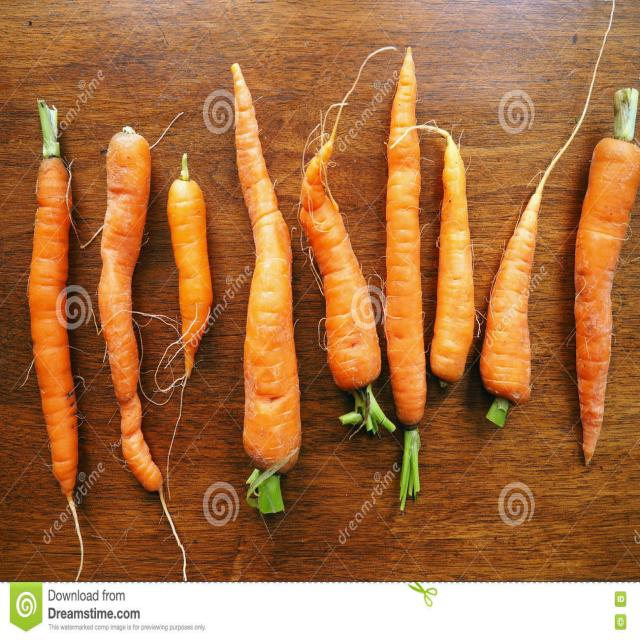Carrot: (222, 67, 310, 465), (574, 86, 640, 472), (92, 131, 159, 493), (294, 128, 383, 384), (380, 49, 434, 434), (26, 160, 84, 495), (478, 172, 557, 406), (426, 128, 479, 378), (166, 161, 220, 377)
